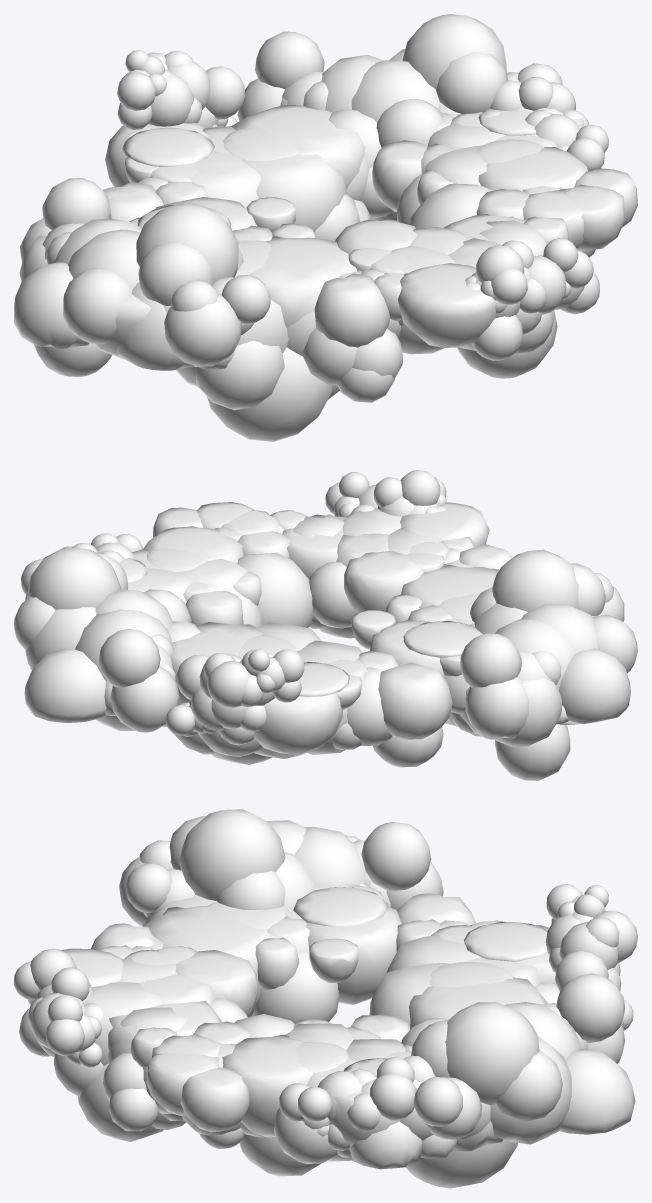
The model's file is clouds_big.glb.
3 views of the same model, one above another, from view 1: azimuth 30°, elevation 25°; view 2: azimuth 150°, elevation 25°; view 3: azimuth 270°, elevation 25° (orthographic). The views are drawn at different scales.
Parts seen in each view (by area): view 1: Sphere.001; view 2: Sphere.001; view 3: Sphere.001.
Part boxes in pixels (box(x1,y1,x2,y2)): Sphere.001: box(14, 14, 637, 441); Sphere.001: box(14, 470, 637, 780); Sphere.001: box(14, 809, 637, 1188).
Size of the model in its own units: 133 by 47.6 by 117.
1 material, 1 textured.
